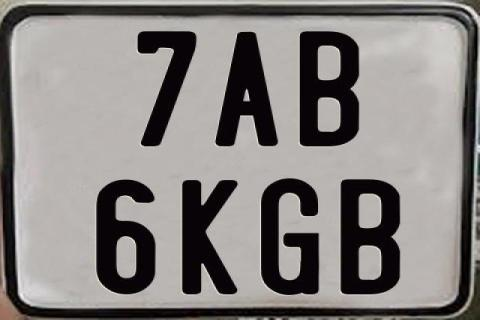0: (136, 29, 201, 147), (94, 179, 159, 296)
A: (213, 29, 278, 149)
B: (339, 178, 402, 294), (297, 29, 359, 144)
G: (261, 178, 325, 300)
K: (179, 178, 235, 298)
